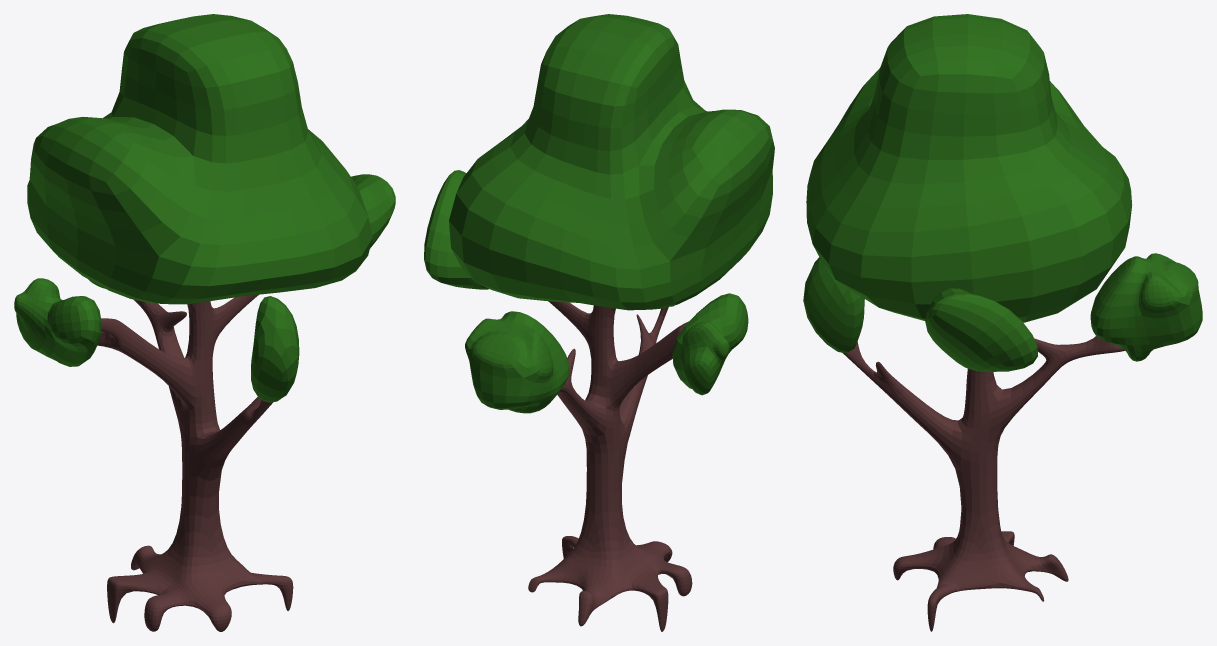
Rendered from Берёза.fbx.
3 renders of one model, left to right at view 1: azimuth 30°, elevation 25°; view 2: azimuth 150°, elevation 25°; view 3: azimuth 270°, elevation 25°, orthographic. The views are drawn at different scales.
Visible parts, largest first — view 1: Куб.010; view 2: Куб.010; view 3: Куб.010.
Part boxes in pixels (bbox=[...]): Куб.010: bbox=[14, 14, 395, 631]; Куб.010: bbox=[424, 14, 774, 631]; Куб.010: bbox=[803, 14, 1202, 631].
Bounding box in the file's own units: 105 × 178 × 111.
